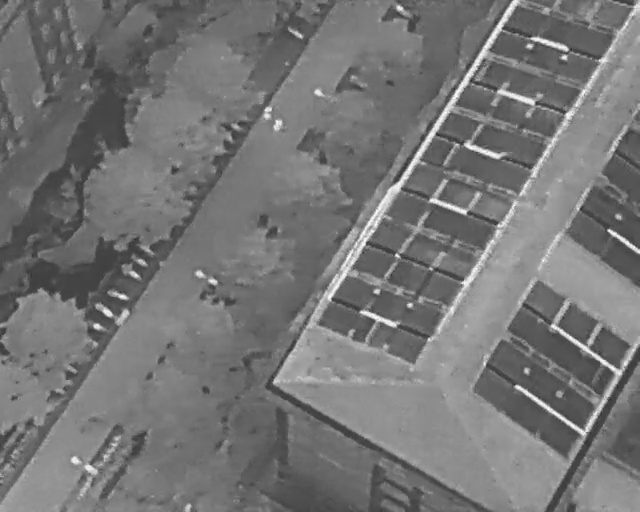Bicycle: (116, 259, 148, 283), (90, 299, 116, 322), (82, 315, 108, 334), (128, 253, 152, 272), (282, 24, 307, 42), (104, 288, 129, 302)
Person: (263, 102, 272, 120), (208, 276, 220, 288), (274, 115, 283, 130), (194, 266, 205, 278)
